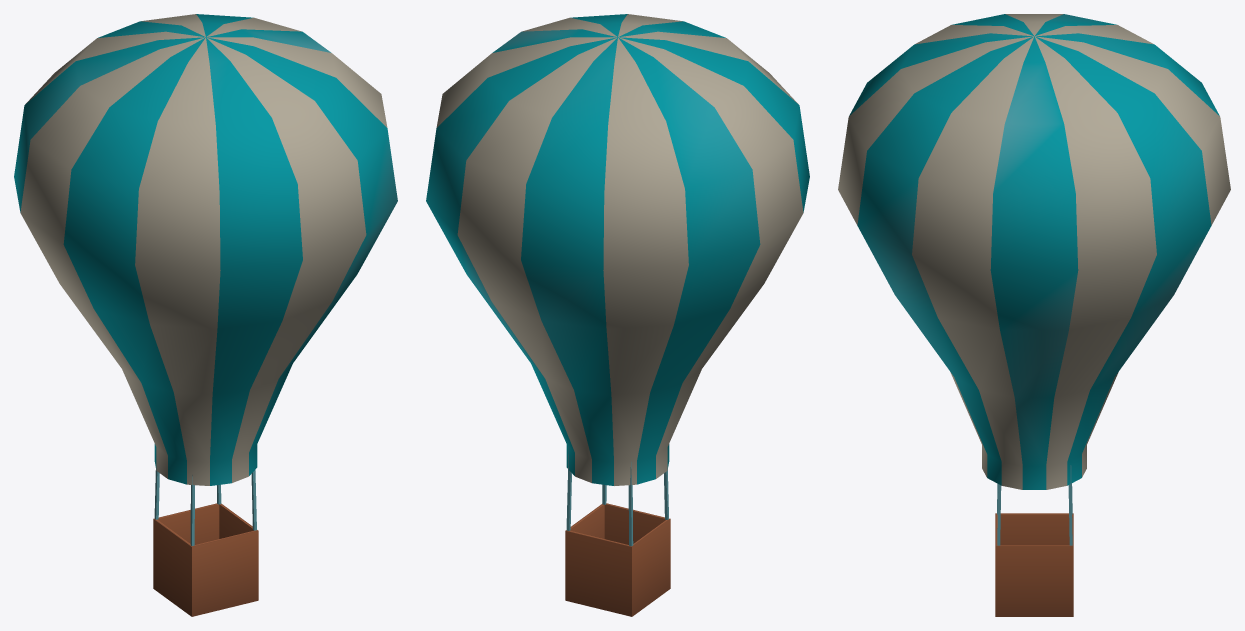
File: BalaoAr.fbx
3 views of the same model, side by side, from view 1: azimuth 30°, elevation 25°; view 2: azimuth 150°, elevation 25°; view 3: azimuth 270°, elevation 25° (orthographic).
Visible parts, largest first — view 1: Balao; view 2: Balao; view 3: Balao.
Boxes of the visible parts, x1,y1,x2,y2 form: Balao: (14,14,397,616); Balao: (426,14,809,616); Balao: (838,14,1230,616).
Size of the model in its own units: 982 by 1595 by 1007.
